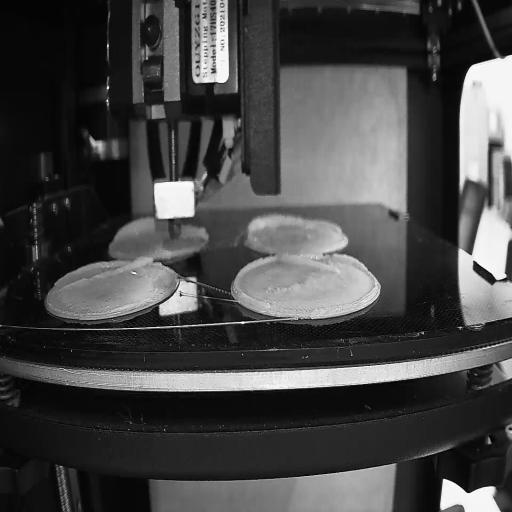over_extrusion: (60, 255, 156, 293), (234, 254, 275, 312), (278, 252, 367, 278), (113, 216, 166, 241), (245, 216, 304, 236), (314, 217, 341, 235), (182, 224, 208, 235)
